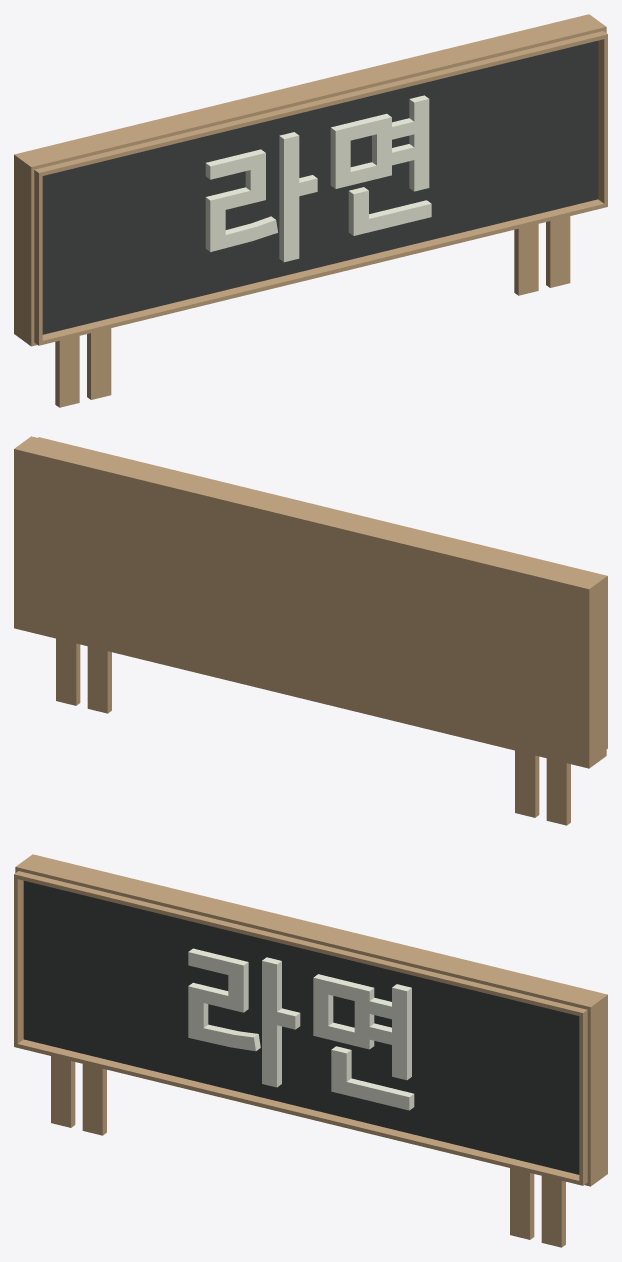
File: SM_sign_ramen_korean.fbx
The picture shows the model from 3 angles, top to bottom: view 1: azimuth 30°, elevation 25°; view 2: azimuth 150°, elevation 25°; view 3: azimuth 330°, elevation 25°; orthographic projection.
Visible parts, largest first — view 1: Object042; view 2: Object042; view 3: Object042.
Part boxes in pixels (<box>): Object042: <box>14,14,607,407</box>; Object042: <box>14,436,607,825</box>; Object042: <box>14,854,607,1247</box>.
Bounding box in the file's own units: 136 × 8.94 × 56.74.
